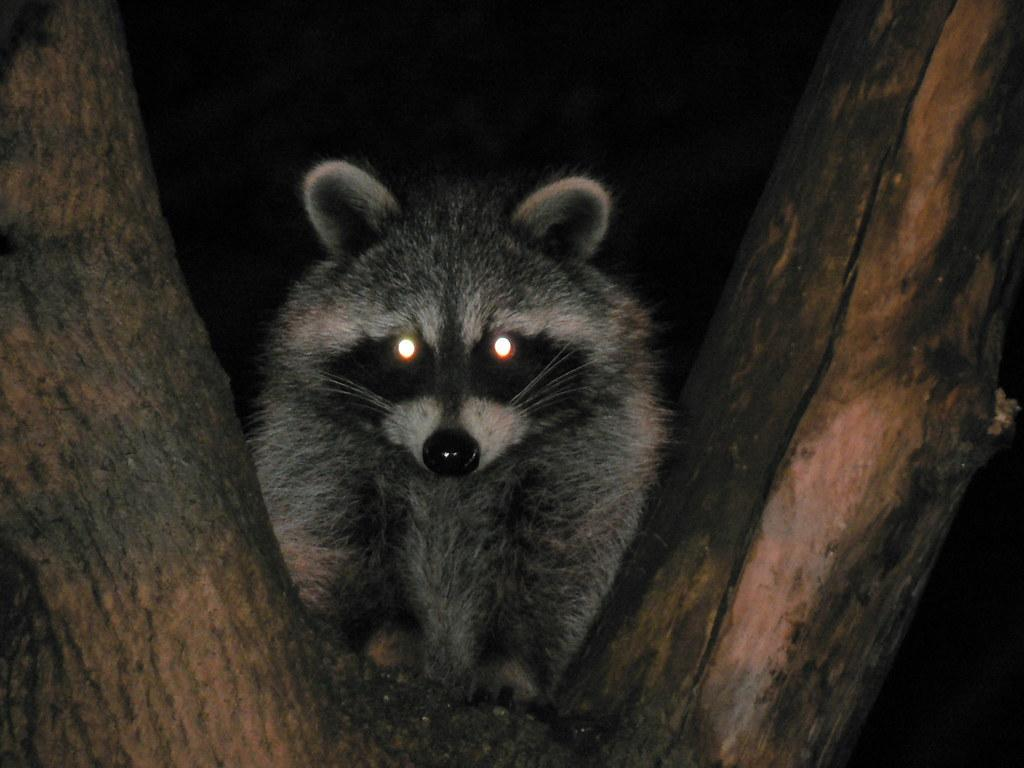raccoon: (249, 159, 655, 682)
